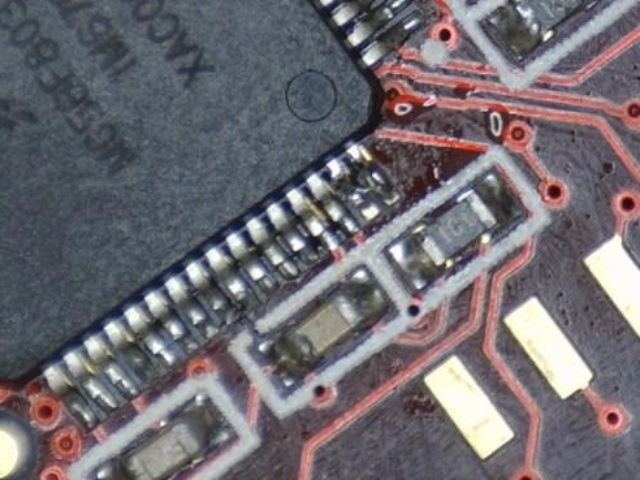pcb_defect: (325, 139, 401, 220)
